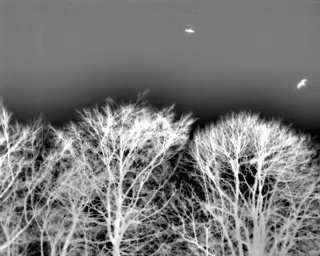BIRD: (295, 76, 310, 93)
